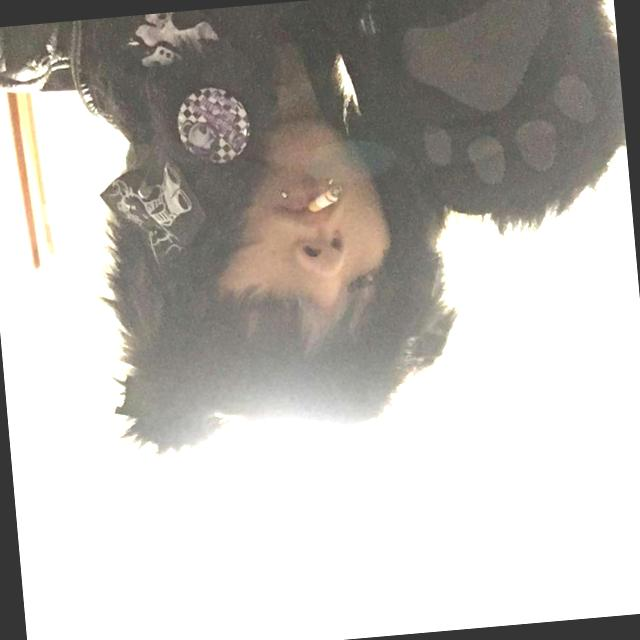smoke: (296, 184, 352, 224)
